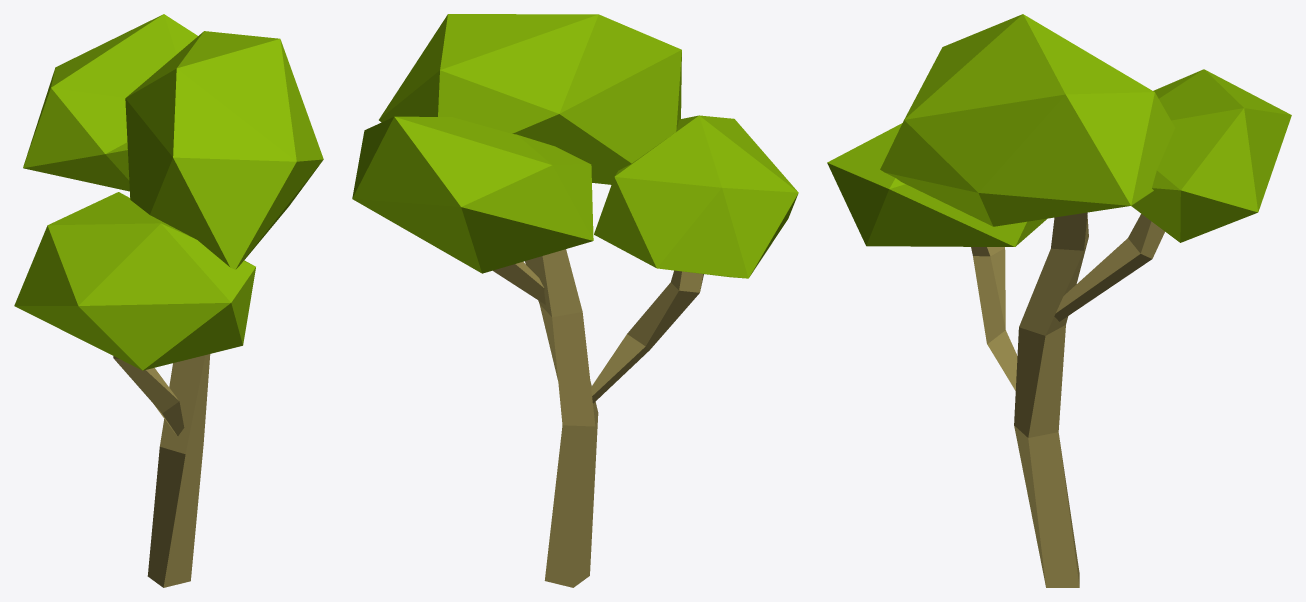
Rendered from Tree_Summer_7.fbx.
3 renders of one model, left to right at view 1: azimuth 30°, elevation 25°; view 2: azimuth 150°, elevation 25°; view 3: azimuth 270°, elevation 25°, orthographic. The views are drawn at different scales.
Visible parts, largest first — view 1: Leaves.002, Leaves, Leaves.001, Trunk, Trunk.002; view 2: Leaves.002, Leaves.001, Leaves, Trunk, Trunk.002, Trunk.001; view 3: Leaves.002, Leaves.001, Trunk, Leaves, Trunk.001, Trunk.002.
Part boxes in pixels (box(x1,y1,x2,y2)): Leaves.002: box(125, 31, 323, 269); Leaves: box(14, 192, 255, 370); Leaves.001: box(23, 14, 197, 191); Trunk: box(147, 354, 210, 587); Trunk.002: box(113, 356, 184, 436); Leaves.002: box(379, 14, 681, 184); Leaves.001: box(352, 116, 593, 273); Leaves: box(594, 115, 798, 278); Trunk: box(525, 249, 598, 587); Trunk.002: box(591, 270, 703, 403); Trunk.001: box(493, 262, 545, 304); Leaves.002: box(880, 14, 1174, 226); Leaves.001: box(1131, 69, 1291, 242); Trunk: box(1014, 212, 1088, 587); Leaves: box(827, 123, 1046, 246); Trunk.001: box(1054, 214, 1164, 321); Trunk.002: box(971, 247, 1017, 390).
Bounding box in the file's own units: 213 × 345 × 259.
